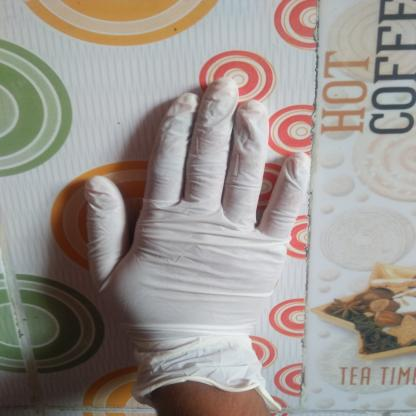gloved_hand: (75, 78, 318, 409)
